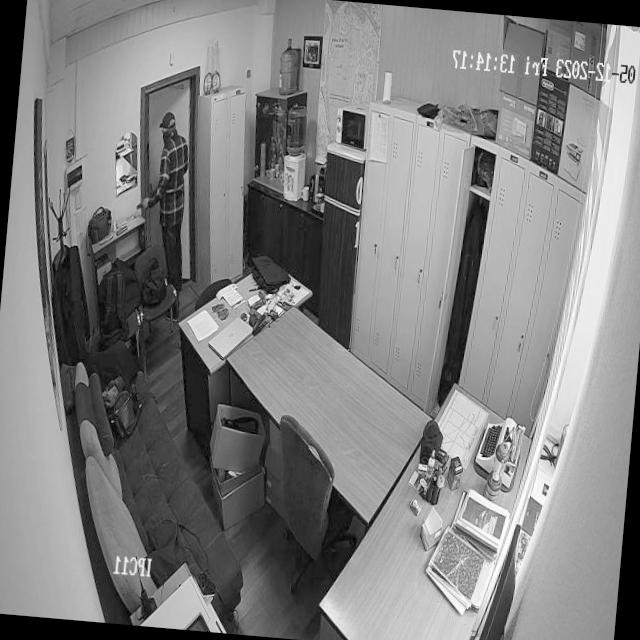gun: (135, 194, 155, 214)
person with a gun: (127, 110, 195, 288)
